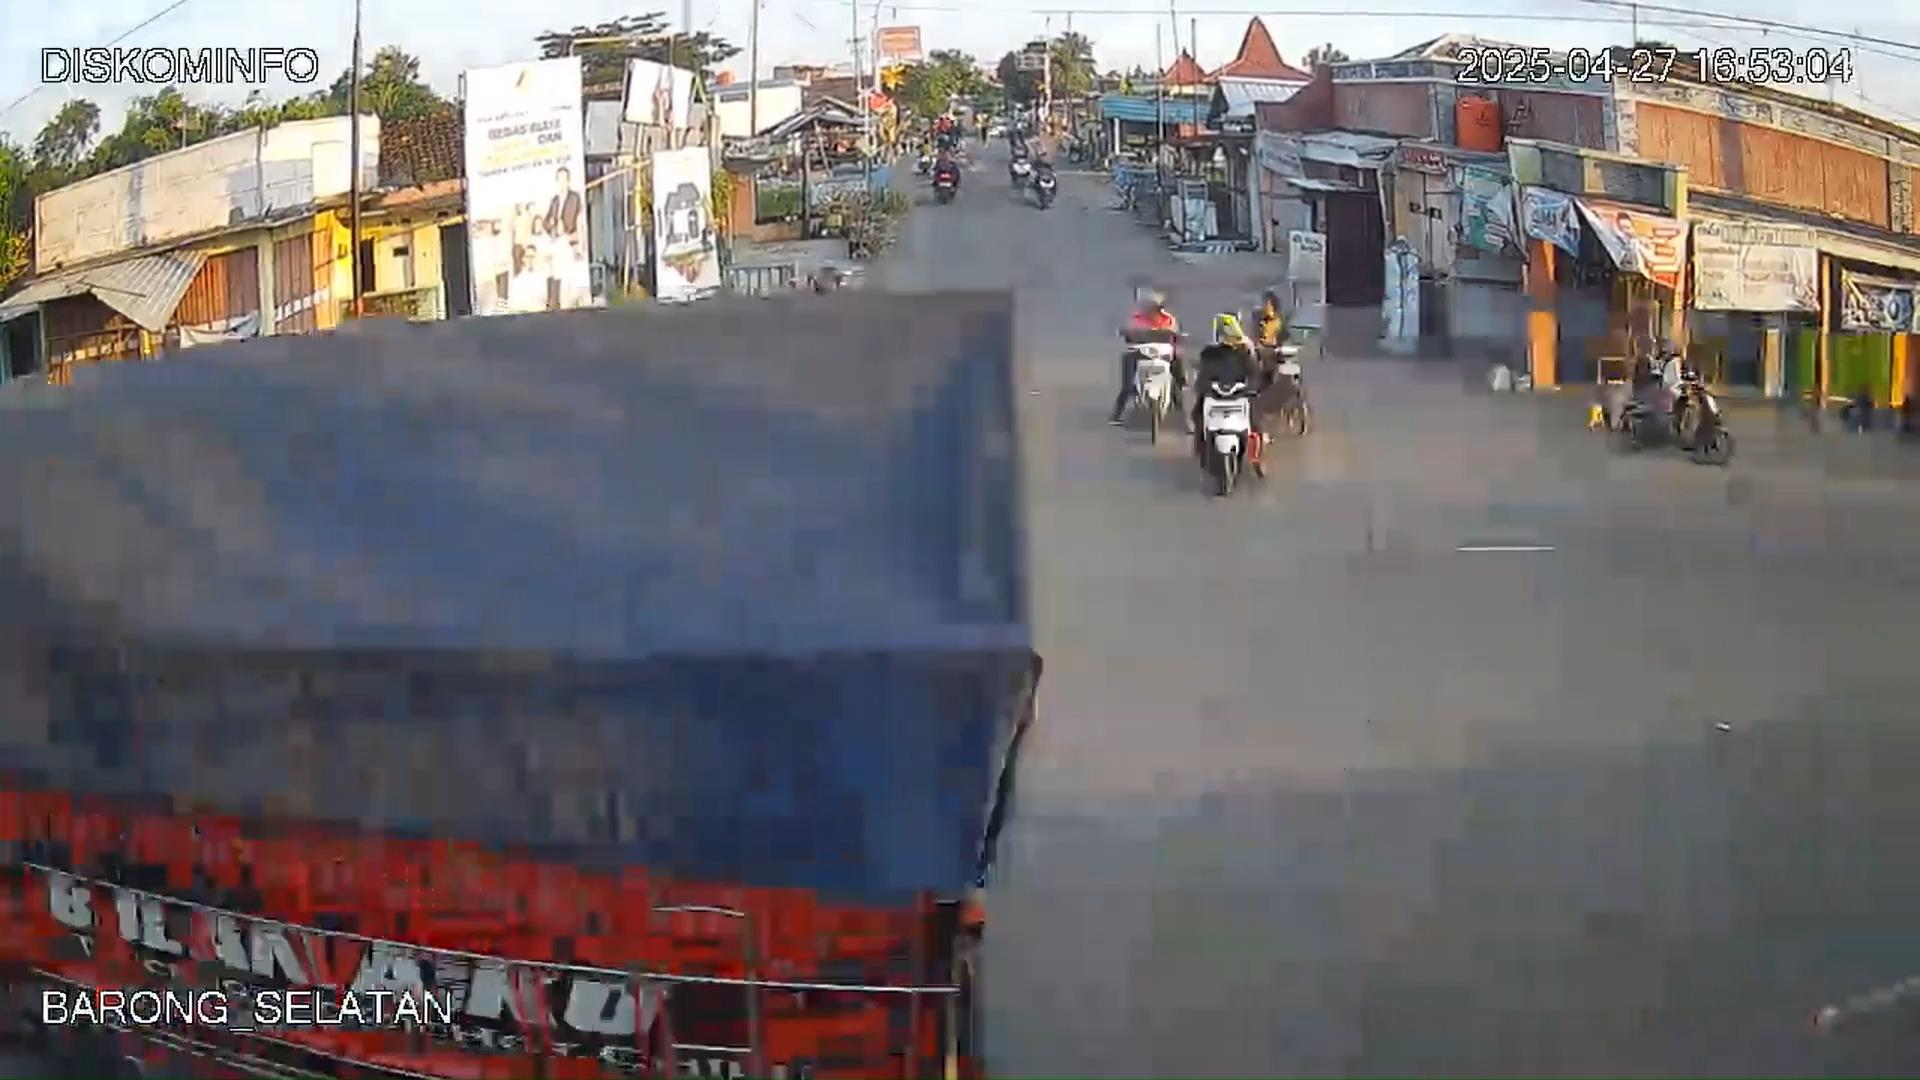Motor: (1600, 360, 1733, 465), (1192, 360, 1269, 493), (1117, 324, 1185, 446)
Truck: (4, 291, 1042, 1062)
